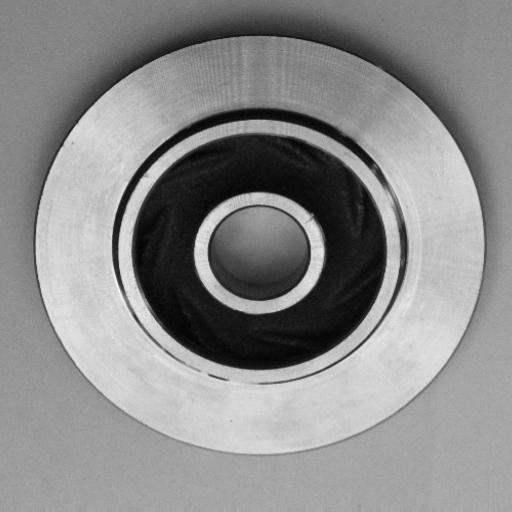scratch: (174, 360, 274, 400)
unpolished_casting: (32, 29, 488, 462)
